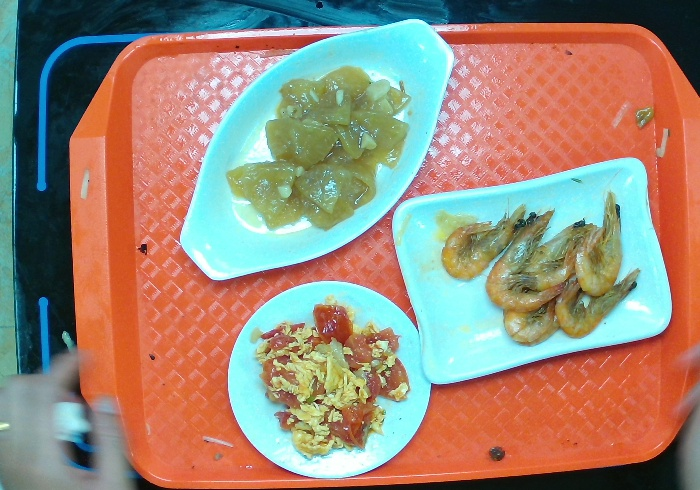RJxy-Si_Fang_Ao_Bian_Wan: (388, 149, 674, 392)
RJxy-Xiao_Yuan_Die: (222, 274, 435, 484)
RJxy-Yu_Pan: (169, 17, 459, 288)
